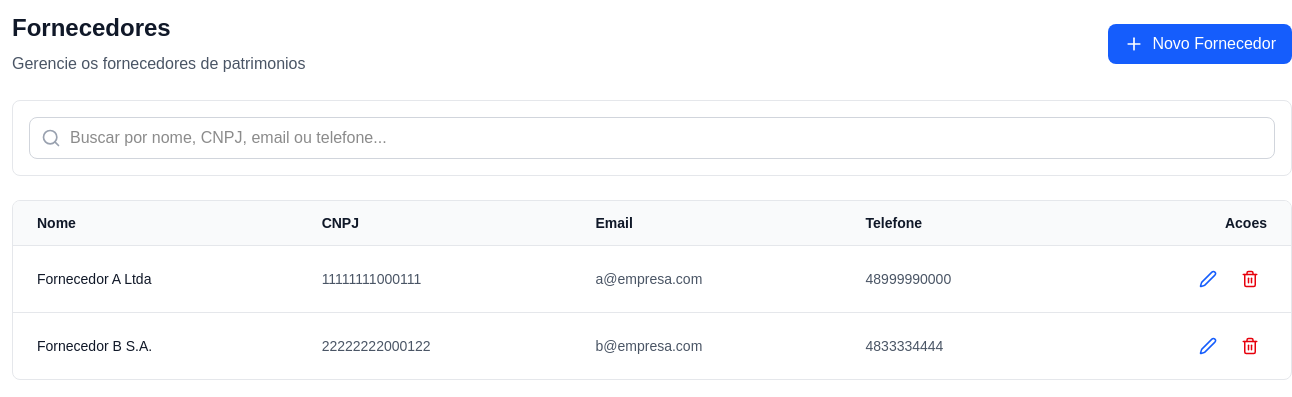
Test: FornecedoresList › filtra por nome, cnpj, email e telefone
Check: the text "Fornecedor A Ltda" is shown, box [13,246,298,312]
Step 1. Type "2222" into the field with placeholder "Buscar por nome, CNPJ, email ou telefone..." → point(652, 138), box [29,117,1275,159]
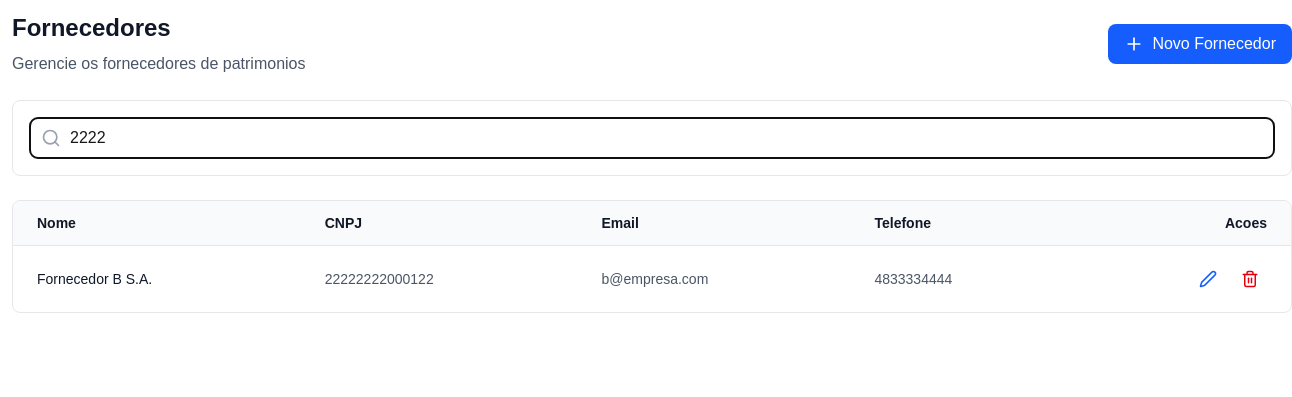
Check: the text "Fornecedor B S.A." is shown, box [13,246,301,312]
Check: the text "Fornecedor A Ltda" is gone
